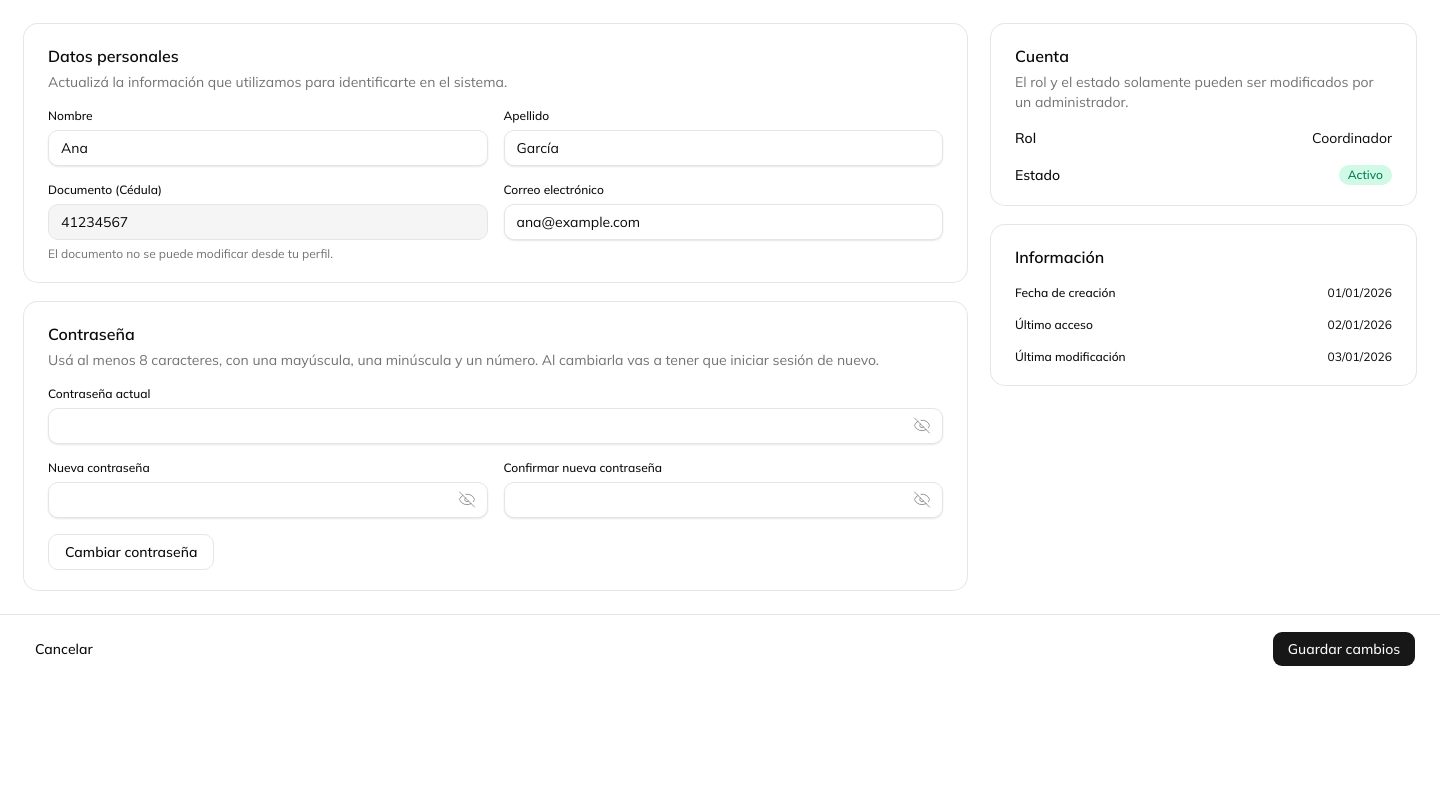
Test: ProfileForm › blocks submission and displays client validation errors
This screenshot has width=1440, height=810.
Clear the field labelled "Nombre" at x=268, y=148, box top-left (48, 130), bottom-right (488, 166)
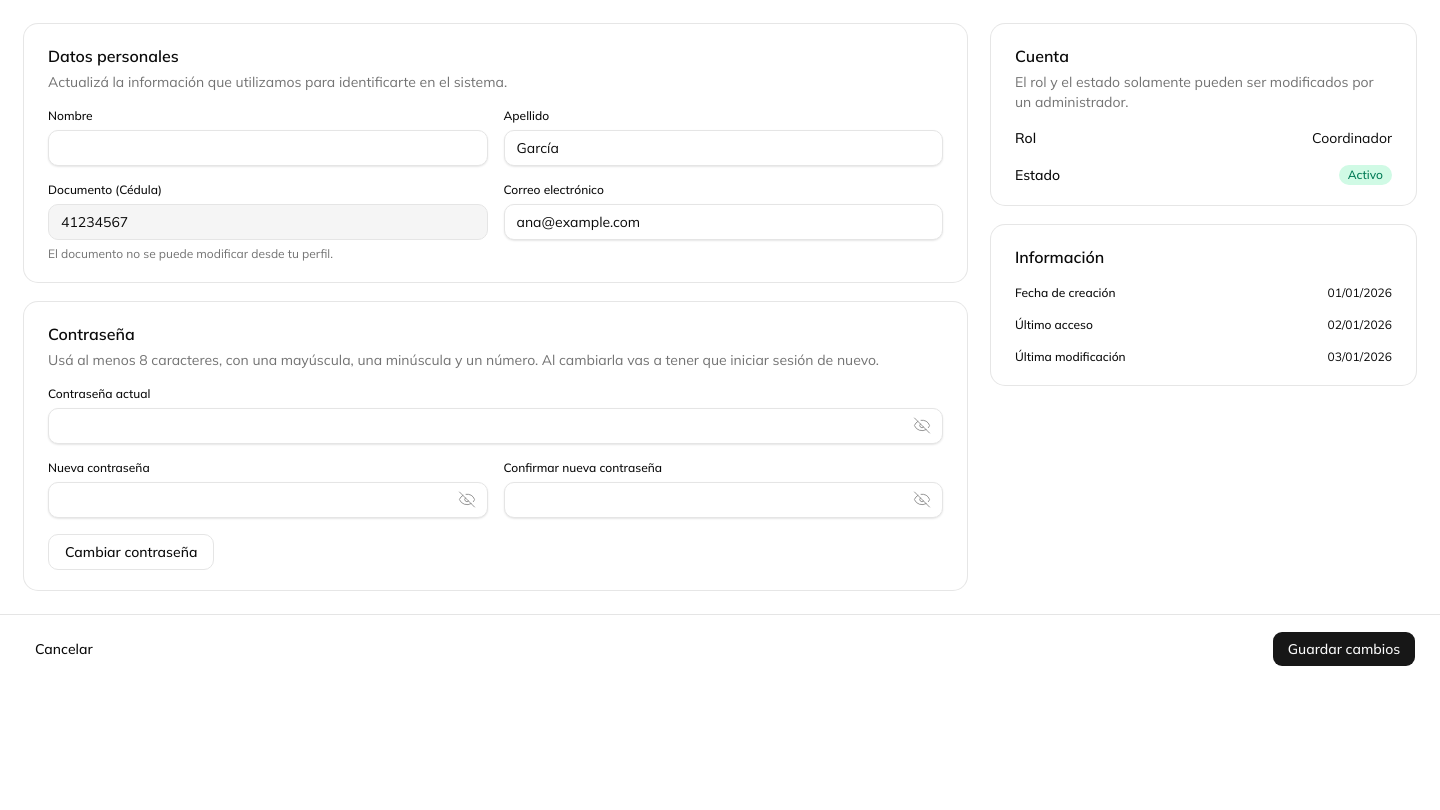
Replace the text in the field labelled "Correo electrónico" with "invalid-email" at x=723, y=222, box top-left (504, 204), bottom-right (943, 240)
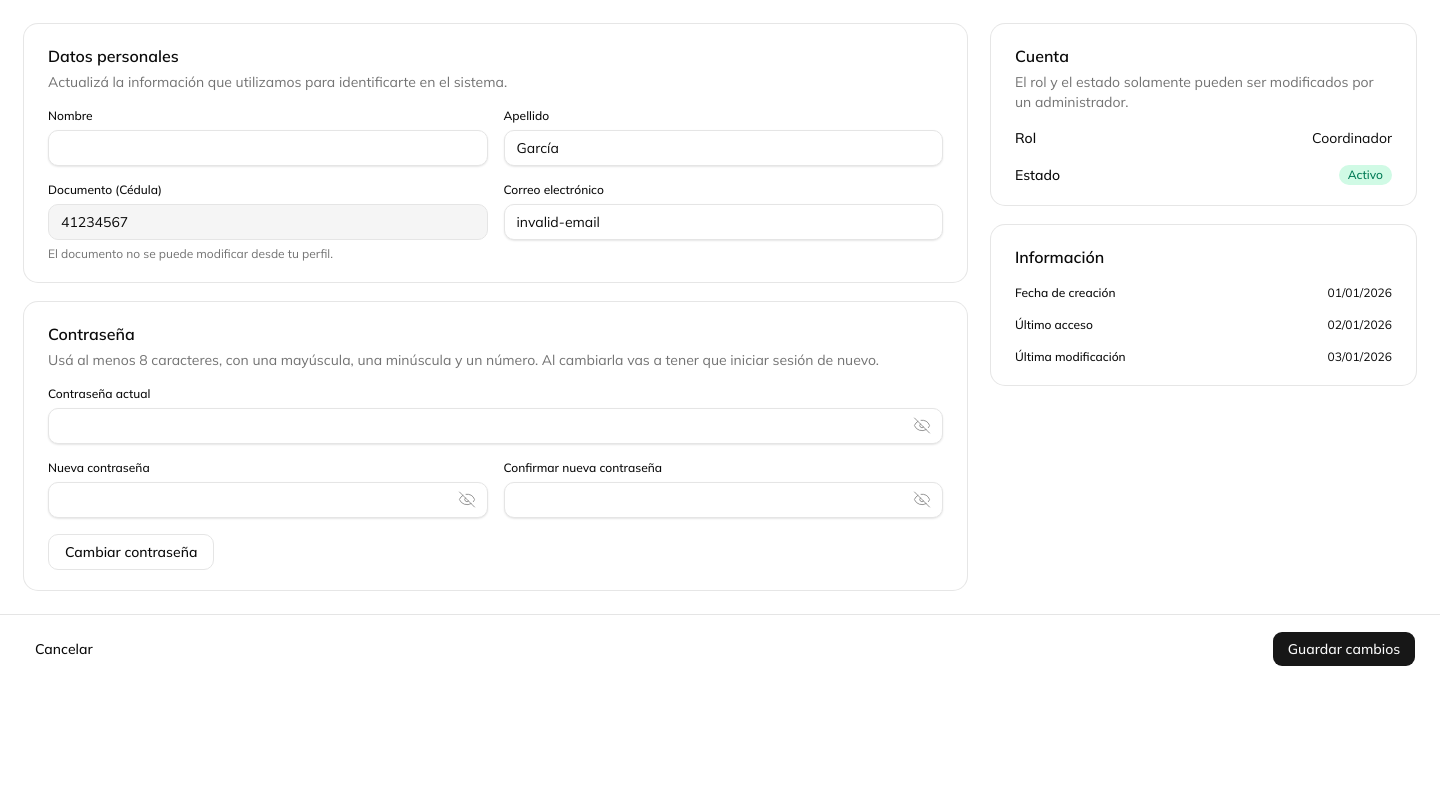
Submit the form that starts with "Datos personales", box top-left (24, 24), bottom-right (967, 282)
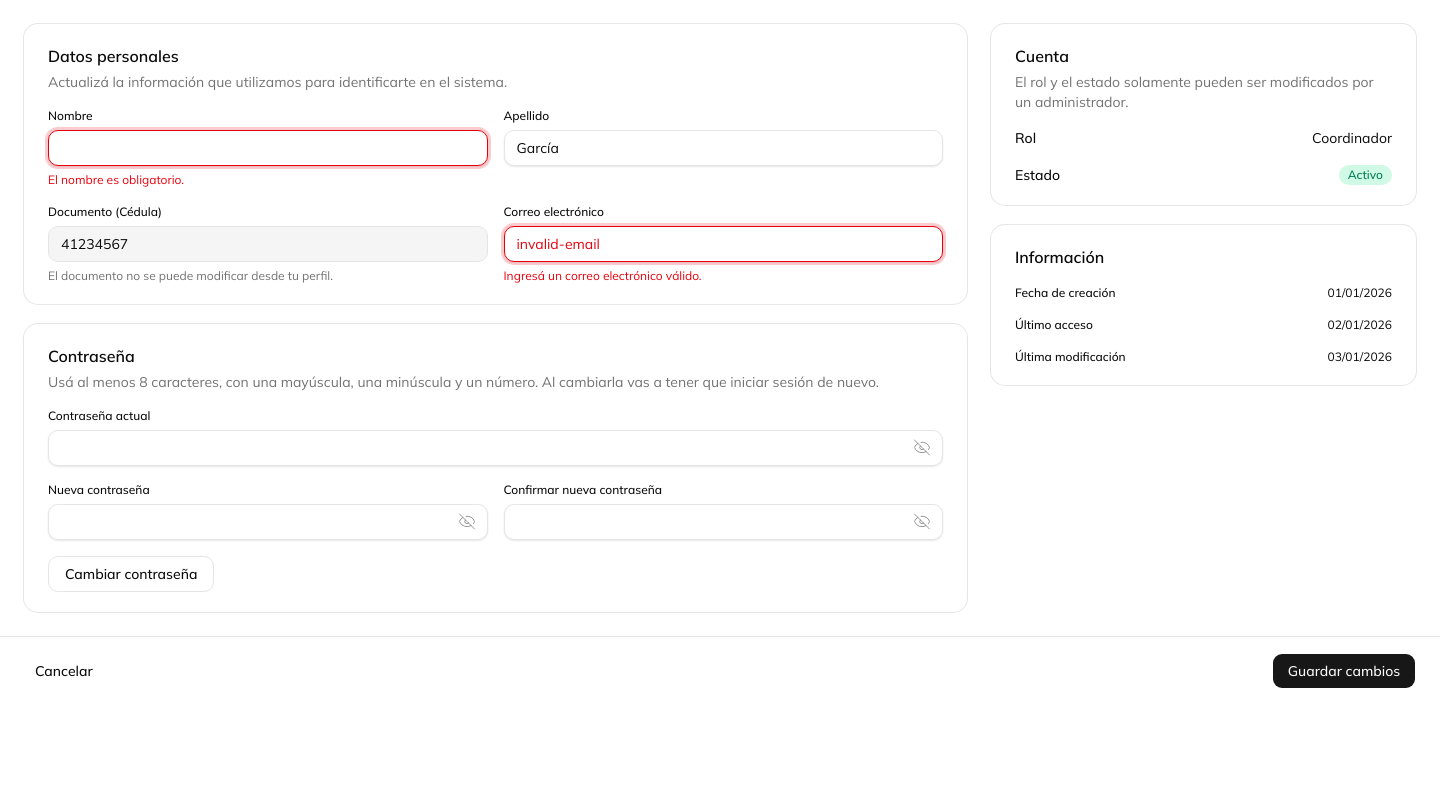
Now the text "El nombre es obligatorio." is shown, box top-left (48, 172), bottom-right (184, 187)
Now the text "Ingresá un correo electrónico válido." is shown, box top-left (504, 268), bottom-right (702, 283)
